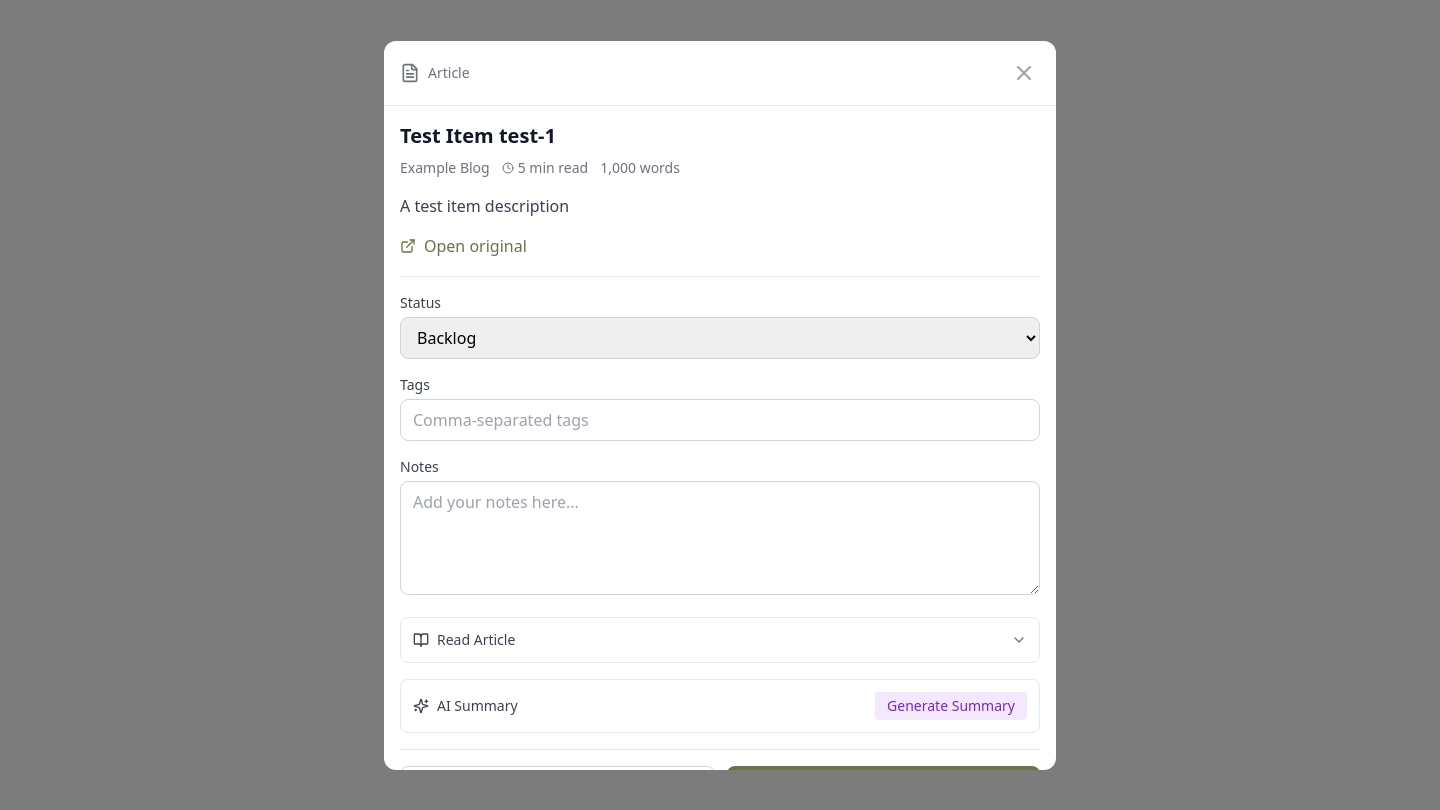
Scenario: InterestDetail › article content section › shows truncation warning when truncated
Click the button "Read Article": [476, 639] box [401, 618, 1039, 662]
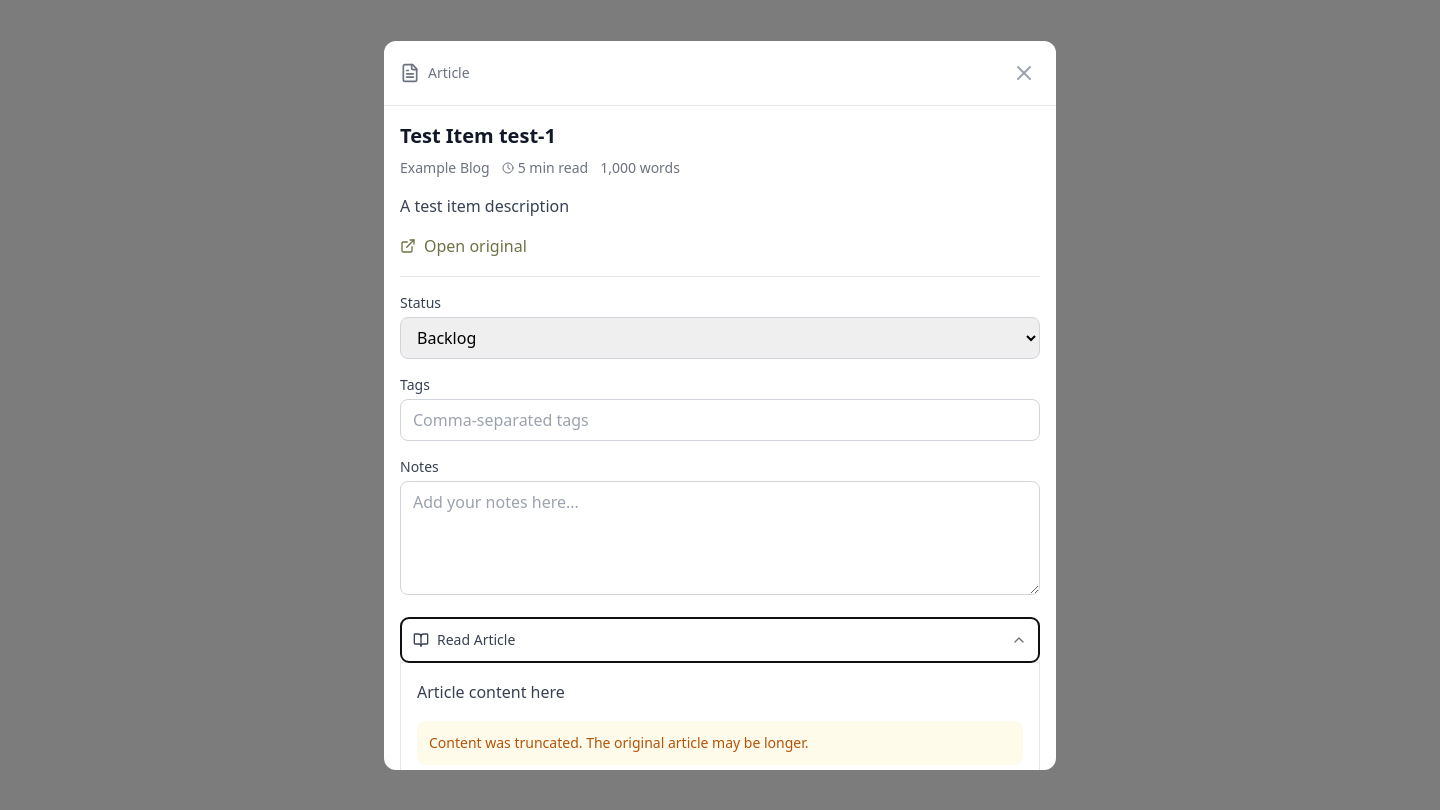
Expected: the text "Content was truncated. The original article may be longer." is shown, [417, 720, 1023, 764]
